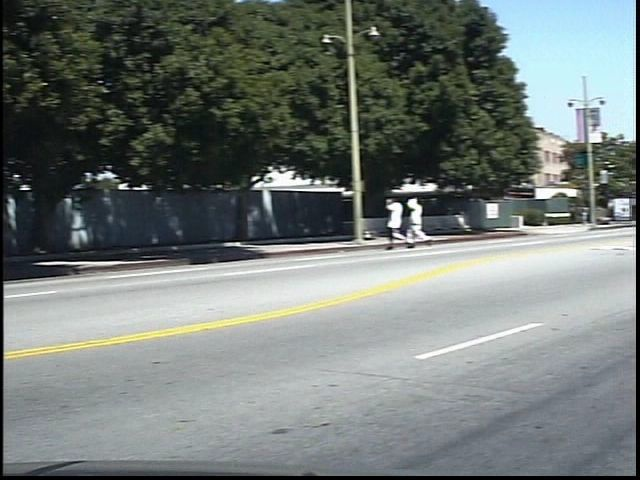person: (399, 192, 425, 254), (423, 193, 449, 253)
